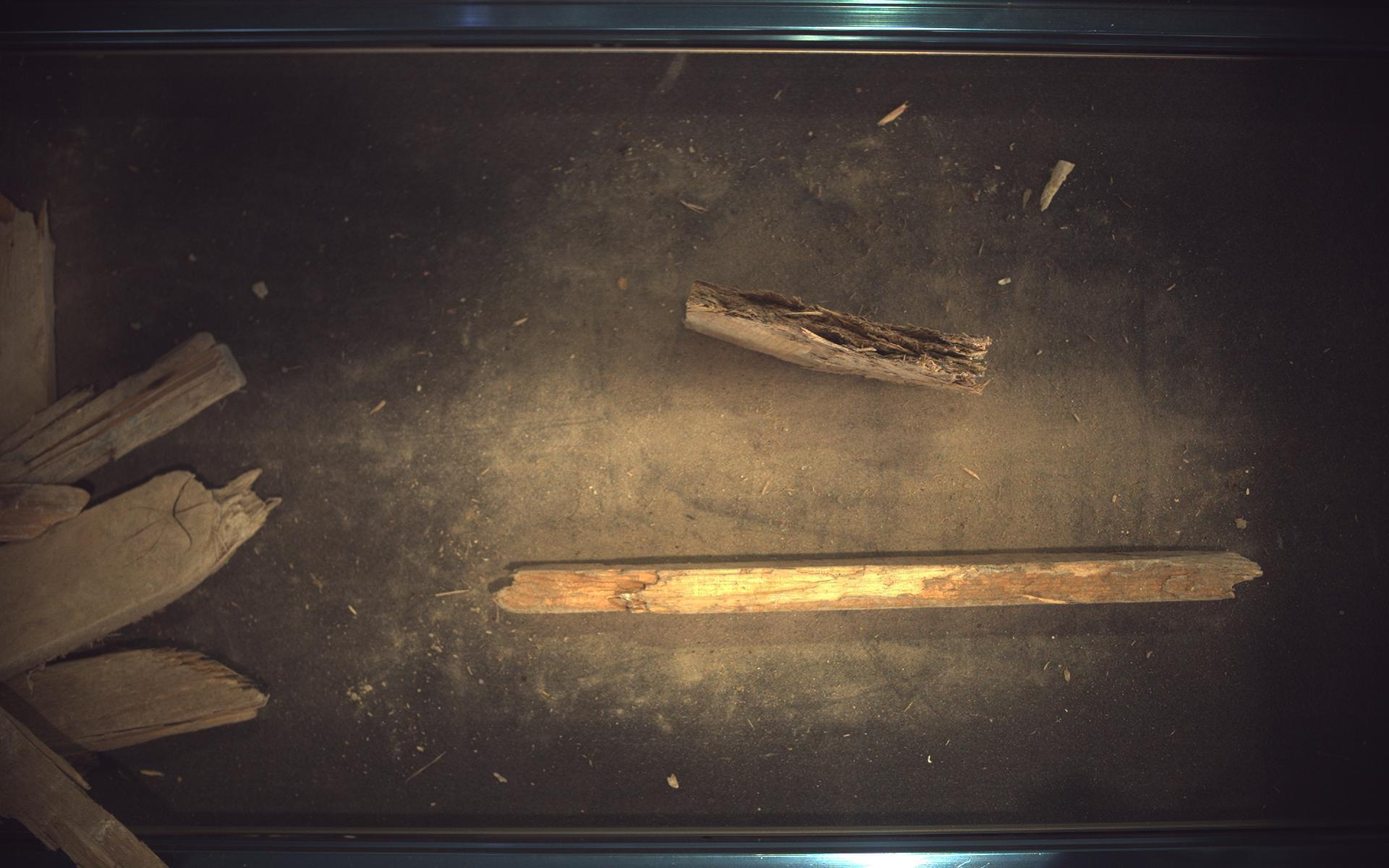wood: (1, 470, 279, 681), (495, 552, 1265, 615), (1, 332, 245, 484), (685, 281, 993, 393), (9, 649, 268, 752), (1, 710, 166, 868), (1, 194, 54, 439), (1, 485, 88, 542)
